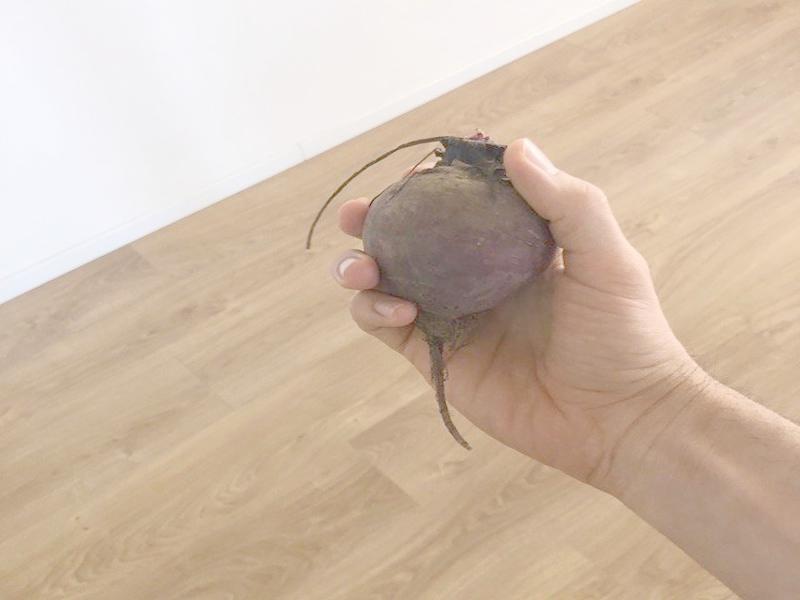Beet: (303, 129, 554, 447)
